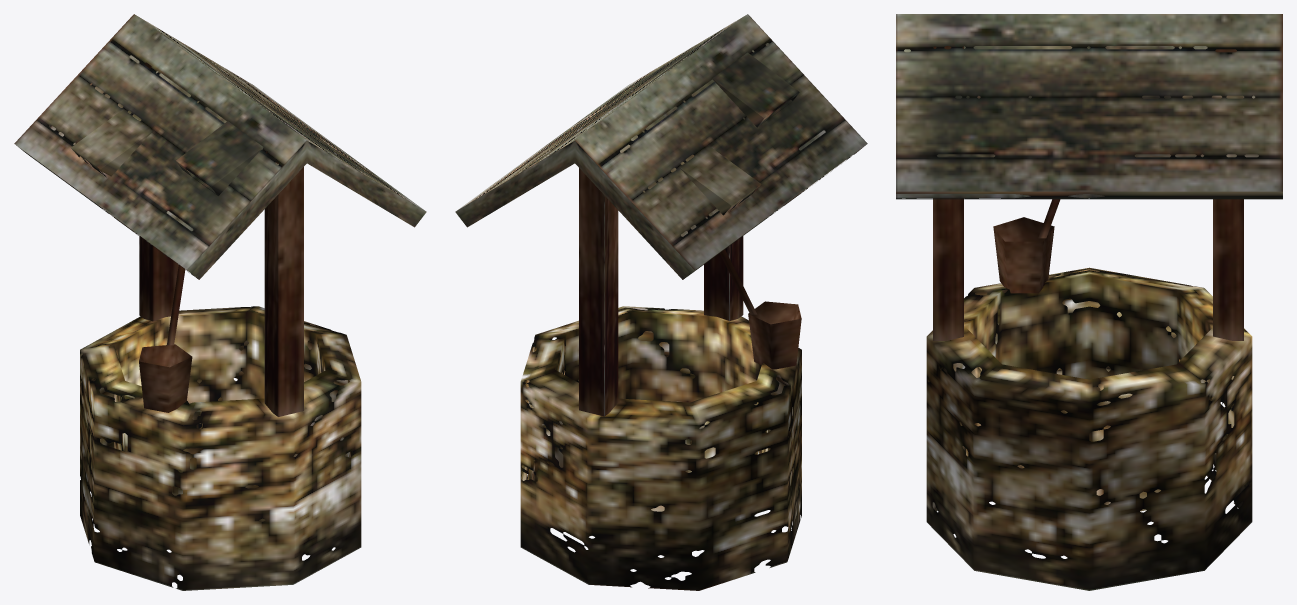
The model's file is Well02.obj.
3 views of the same model, side by side, from view 1: azimuth 30°, elevation 25°; view 2: azimuth 150°, elevation 25°; view 3: azimuth 270°, elevation 25° (orthographic). The views are drawn at different scales.
Visible parts, largest first — view 1: Mesh_0; view 2: Mesh_0; view 3: Mesh_0.
Boxes of the visible parts, bbox=[...] form: Mesh_0: bbox=[14, 14, 426, 590]; Mesh_0: bbox=[455, 14, 867, 590]; Mesh_0: bbox=[896, 14, 1282, 590].
Size of the model in its own units: 1.57 by 2.71 by 1.87.
Materials: 1 (1 with a texture image).
